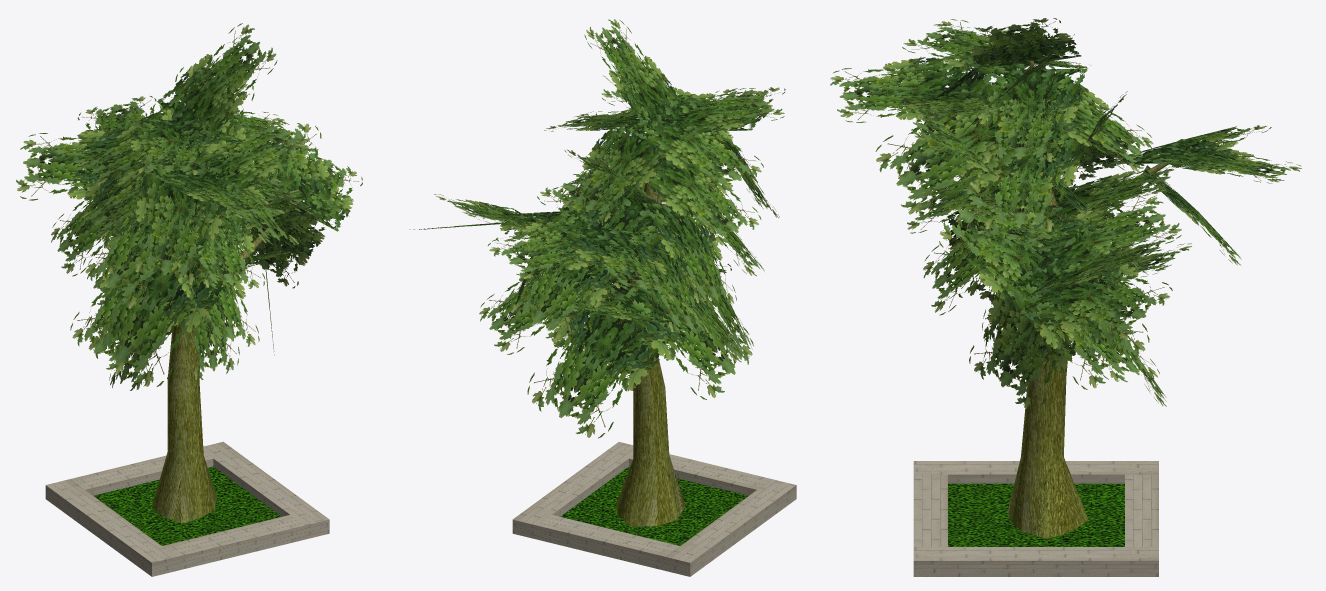
The model's file is tree A.FBX.
The picture shows the model from 3 angles, left to right: view 1: azimuth 30°, elevation 25°; view 2: azimuth 150°, elevation 25°; view 3: azimuth 270°, elevation 25°; orthographic projection. The views are drawn at different scales.
Parts seen in each view (by area): view 1: Cylinder001; view 2: Cylinder001; view 3: Cylinder001.
Part boxes in pixels (x1,y1,x2,y2): Cylinder001: (16, 23, 362, 576); Cylinder001: (410, 19, 796, 576); Cylinder001: (830, 18, 1301, 576).
Size of the model in its own units: 40.21 by 56.49 by 45.3.
